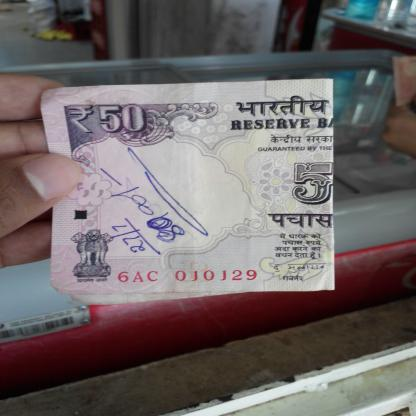Old50Front: (40, 78, 336, 306)
